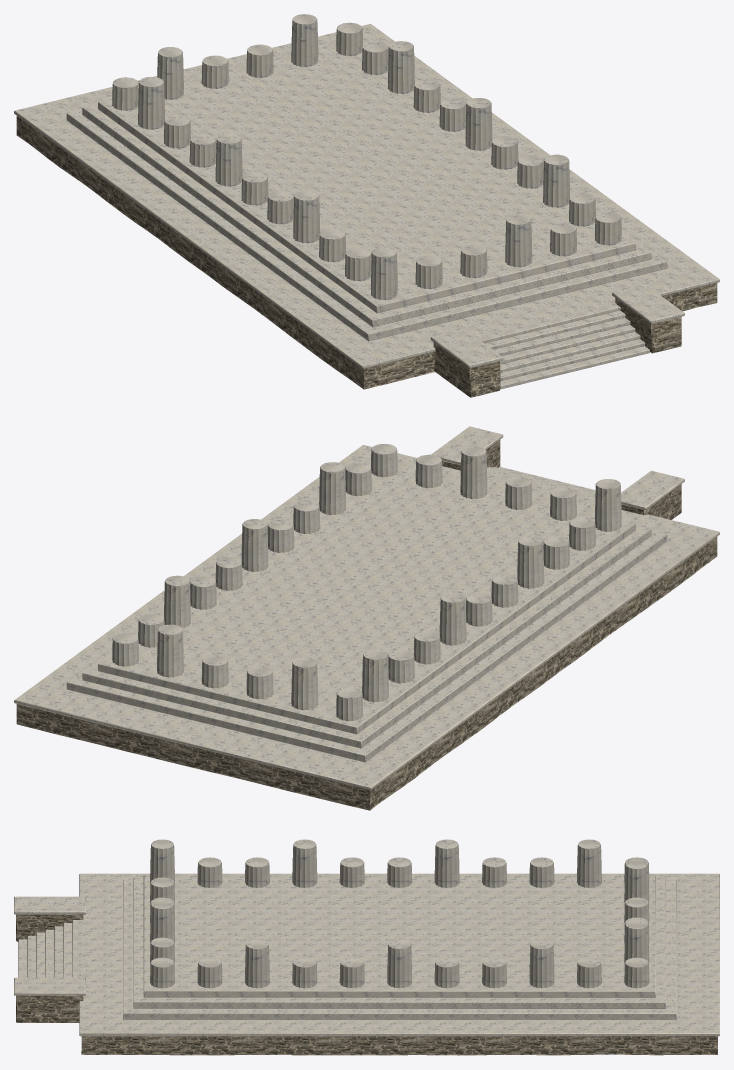
File: civic_temple-zeus_stage1.glb
The picture shows the model from 3 angles, top to bottom: view 1: azimuth 30°, elevation 25°; view 2: azimuth 150°, elevation 25°; view 3: azimuth 270°, elevation 25°; orthographic projection. The views are drawn at different scales.
Visible parts, largest first — view 1: step, marble, stone; view 2: step, marble, stone; view 3: step, marble, stone.
Boxes of the visible parts, <box> form: step: <box>14,23,719,389</box>; marble: <box>112,14,621,299</box>; stone: <box>16,116,717,397</box>; step: <box>14,426,719,790</box>; marble: <box>112,444,621,721</box>; stone: <box>16,440,717,810</box>; step: <box>14,873,719,1036</box>; marble: <box>150,839,649,988</box>; stone: <box>16,914,717,1055</box>.
Size of the model in its own units: 15.16 by 3.63 by 28.28.
Materials: 3 (3 with a texture image).
